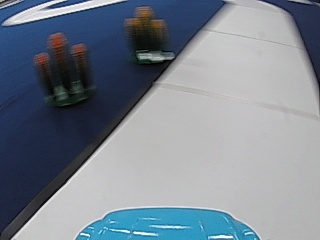corn: (34, 29, 94, 108), (125, 3, 169, 64)
